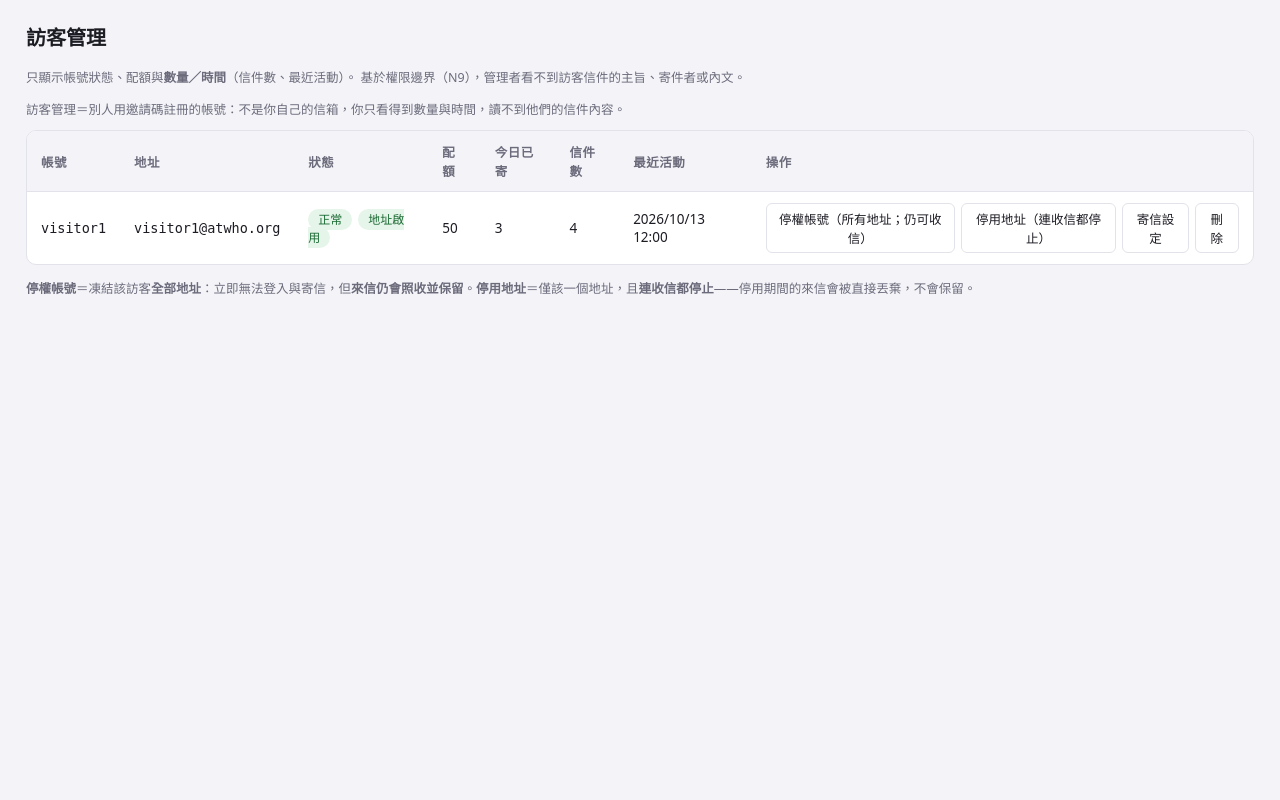
T33-3（D8-2）：停權與停用的文案與 tooltip › 停用地址前的二次確認逐字顯示「此地址將立即停止收信，停用期間的來信不會保留」
Click the button "停用地址（連收信都停止）": (1038,228) [961,203,1116,253]
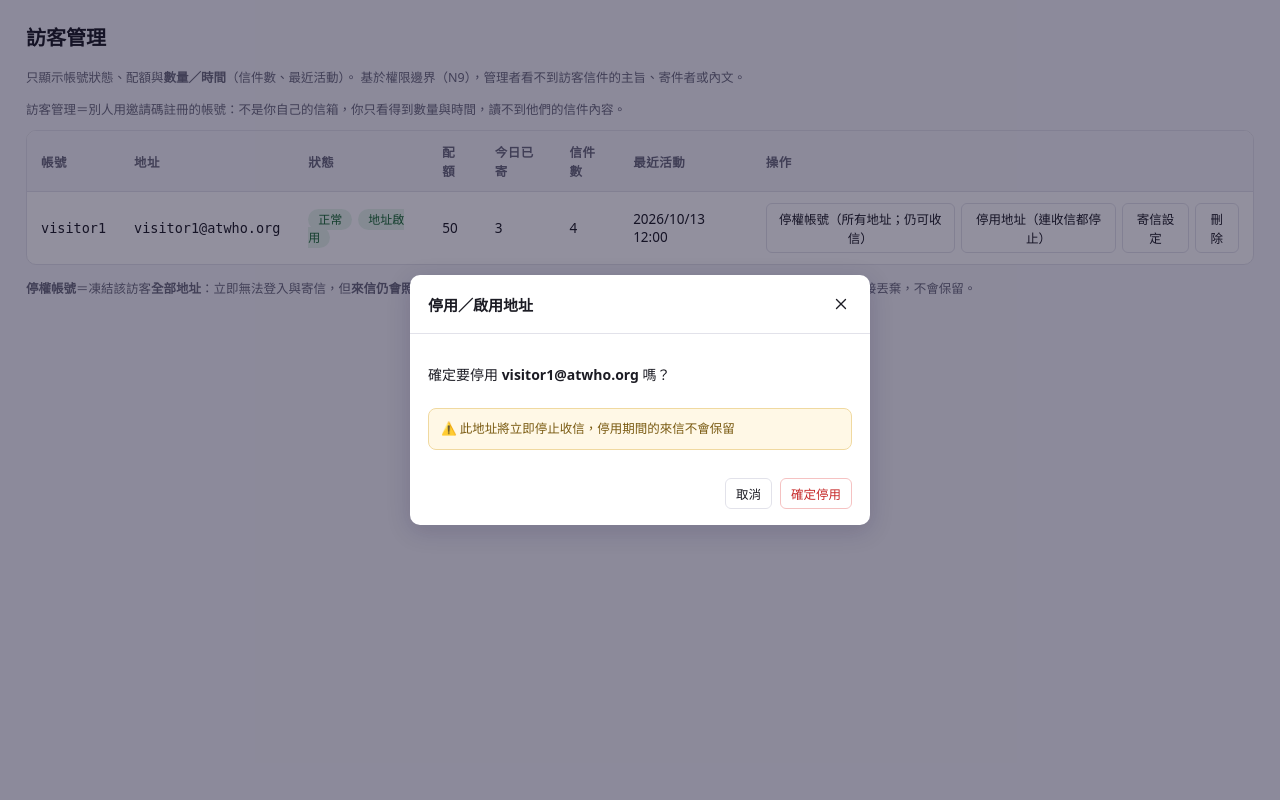
Check: the text "visitor1@atwho.org" is shown, box [502,365,639,384]
Check: the text "⚠️ 此地址將立即停止收信，停用期間的來信不會保留" is shown, box [428,408,852,450]
